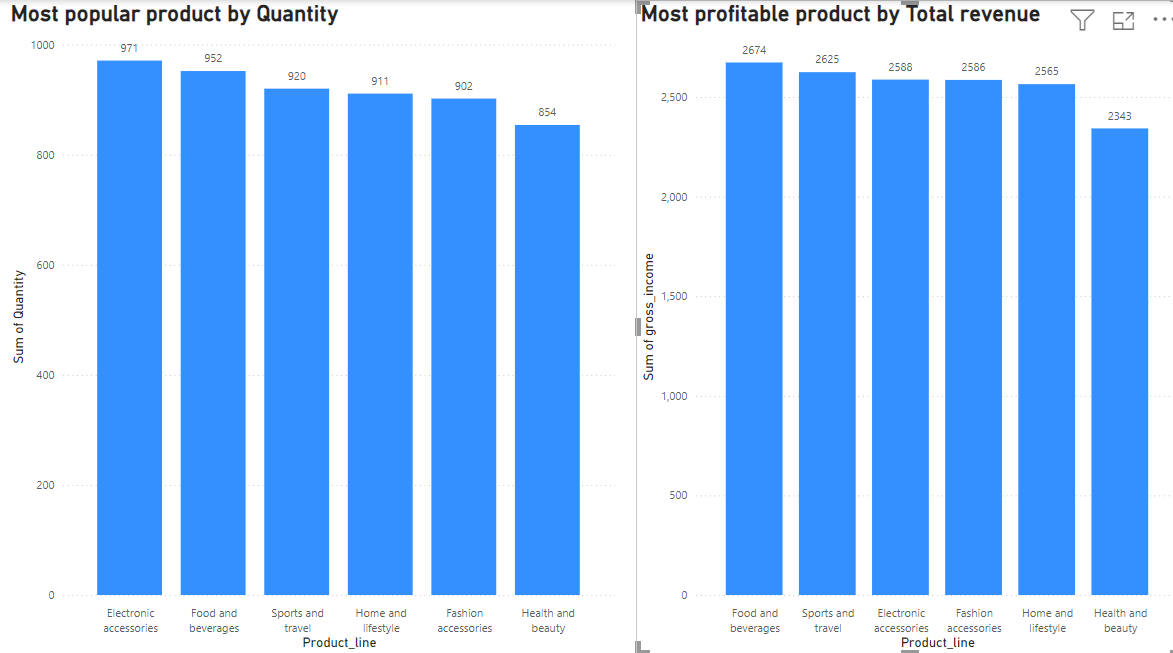

The dashboard page shown, as its layout file describes it:
{"tool":"powerbi","page":{"name":"Priortize product by supermarket","canvas":[1280,720],"ordinal":7},"visuals":[{"type":"clusteredColumnChart","title":"Most popular product by Quantity","fields":{"Category":["supermarket_sales_data.Product_line"],"Y":["Sum(supermarket_sales_data.Quantity)"]},"box":[9.7,0,662.3,706],"z":0},{"type":"clusteredColumnChart","title":"Most profitable product by Total revenue","fields":{"Category":["supermarket_sales_data.Product_line"],"Y":["Sum(supermarket_sales_data.gross_income)"]},"box":[689.8,0,591,706],"z":1}]}

Visuals, with their boxes in screenshot pixels (x1, y1, x2, y2), scaled from the page's 1280x720 canvas onto the 1173x653 screenshot:
"Most popular product by Quantity" clusteredColumnChart: bbox=[9, 0, 616, 640]
"Most profitable product by Total revenue" clusteredColumnChart: bbox=[632, 0, 1172, 640]
